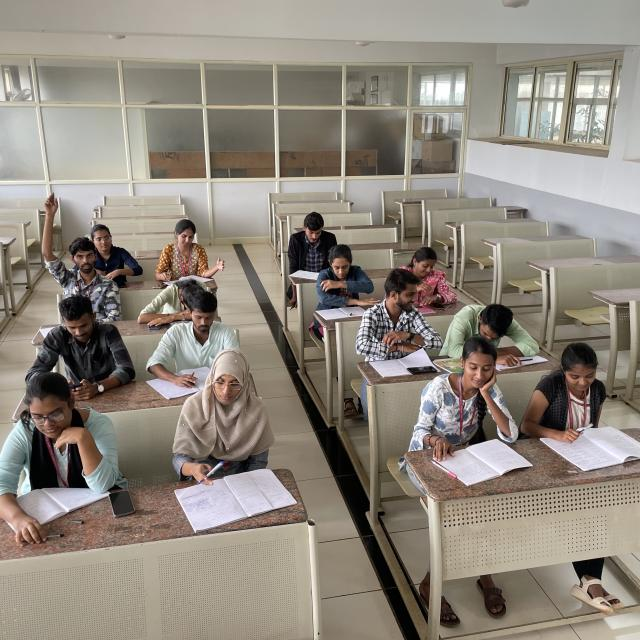Hand Rising: (36, 191, 121, 307)
Reading: (0, 368, 132, 532), (408, 336, 536, 474), (529, 336, 626, 465), (144, 290, 252, 389), (448, 299, 538, 366), (147, 220, 231, 286), (316, 246, 387, 318), (283, 208, 345, 282)
Sleeping: (133, 277, 232, 331)
Using Phone: (25, 296, 137, 401)
Writing: (162, 351, 296, 504)
